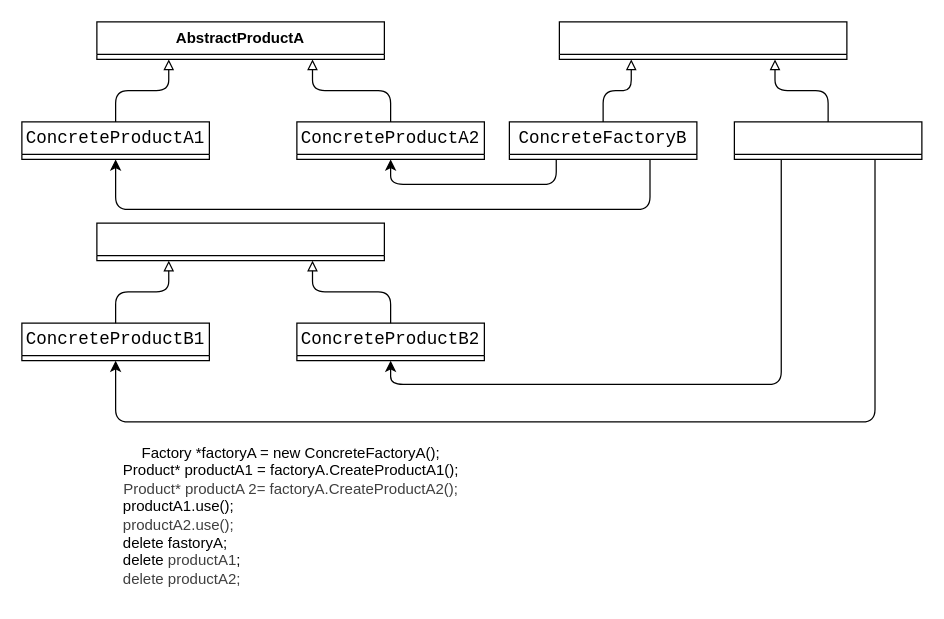
Image size: 944x619. Some labels were removed from this diagram. Each missing label, with the centre of its shape:
"AbstractFactory" belongs at [702,40].
"AbstractProductB" belongs at [240,241].
"ConcreteFactoryA" belongs at [827,140].
